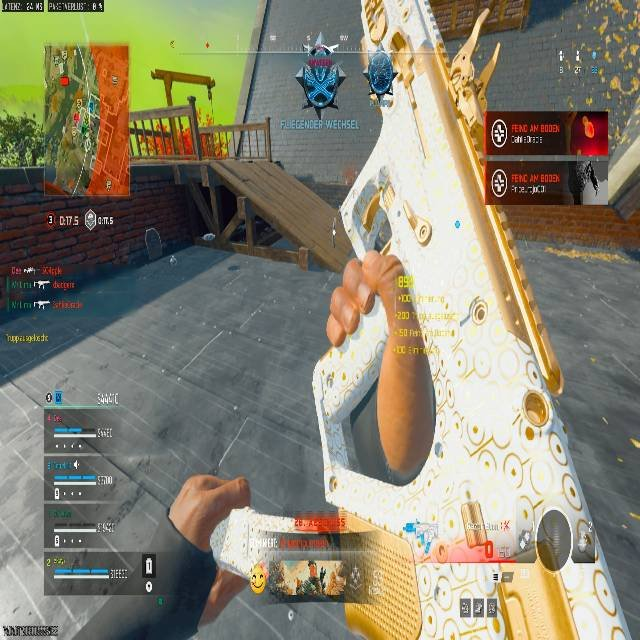head: (309, 45, 333, 63)
player: (294, 45, 345, 119)
